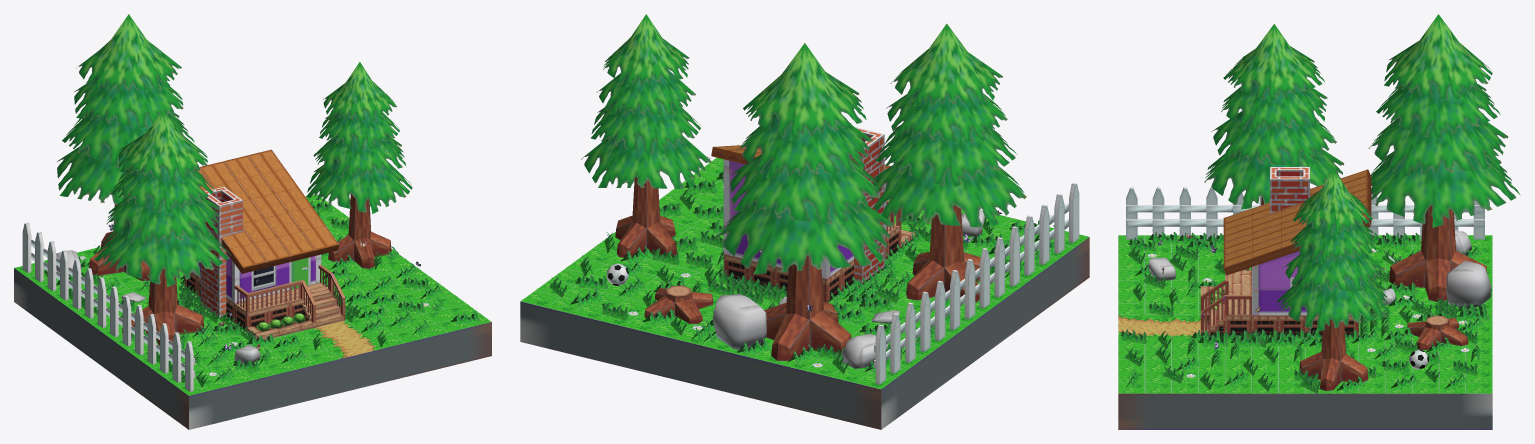
The model's file is forest_house.fbx.
3 views of the same model, side by side, from view 1: azimuth 30°, elevation 25°; view 2: azimuth 150°, elevation 25°; view 3: azimuth 270°, elevation 25° (orthographic). The views are drawn at different scales.
Visible parts, largest first — view 1: ground, tree_01, tree_02, house, tree_00, fence, support, chimney; view 2: ground, tree_02, tree_01, tree_00, fence, support, rock_02, house, chimney, tree_stump, rock_04; view 3: ground, tree_02, tree_01, tree_00, house, fence, support, rock_02, chimney, tree_stump, rock_00.
Part boxes in pixels (left/top/right/bottom): ground: left=14, top=194, right=491, bottom=429; tree_01: left=94, top=110, right=231, bottom=345; tree_02: left=56, top=14, right=194, bottom=280; house: left=192, top=149, right=339, bottom=303; tree_00: left=306, top=62, right=412, bottom=268; fence: left=22, top=222, right=195, bottom=391; support: left=184, top=264, right=345, bottom=339; chimney: left=200, top=187, right=242, bottom=318; ground: left=520, top=157, right=1089, bottom=429; tree_02: left=715, top=43, right=894, bottom=360; tree_01: left=870, top=23, right=1026, bottom=302; tree_00: left=581, top=14, right=711, bottom=257; fence: left=874, top=182, right=1079, bottom=384; support: left=723, top=200, right=914, bottom=302; rock_02: left=712, top=294, right=766, bottom=350; house: left=711, top=145, right=890, bottom=278; chimney: left=849, top=127, right=884, bottom=284; tree_stump: left=644, top=285, right=713, bottom=323; rock_04: left=841, top=333, right=888, bottom=368; ground: left=1118, top=235, right=1492, bottom=429; tree_02: left=1368, top=14, right=1520, bottom=302; tree_01: left=1204, top=24, right=1344, bottom=269; tree_00: left=1277, top=169, right=1390, bottom=391; house: left=1223, top=169, right=1371, bottom=315; fence: left=1126, top=187, right=1484, bottom=239; support: left=1200, top=268, right=1358, bottom=336; rock_02: left=1446, top=261, right=1491, bottom=307; chimney: left=1270, top=167, right=1309, bottom=213; tree_stump: left=1407, top=315, right=1468, bottom=349; rock_00: left=1148, top=257, right=1176, bottom=281.
Bounding box in the file's own units: 15.11 × 12.57 × 15.06.
Materials: 1 (1 with a texture image).
